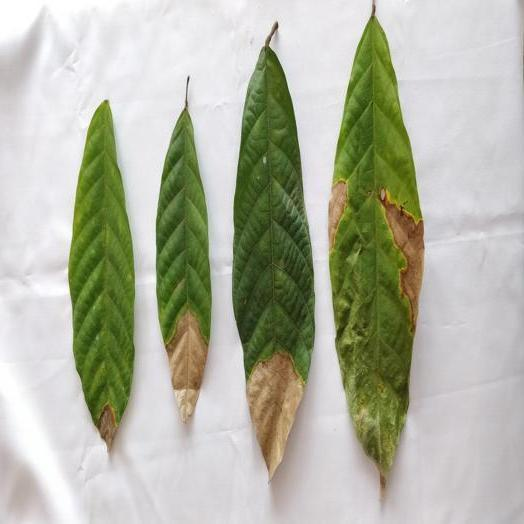Potassium: (329, 0, 423, 490), (233, 25, 314, 477), (69, 100, 134, 450), (157, 77, 211, 422)
